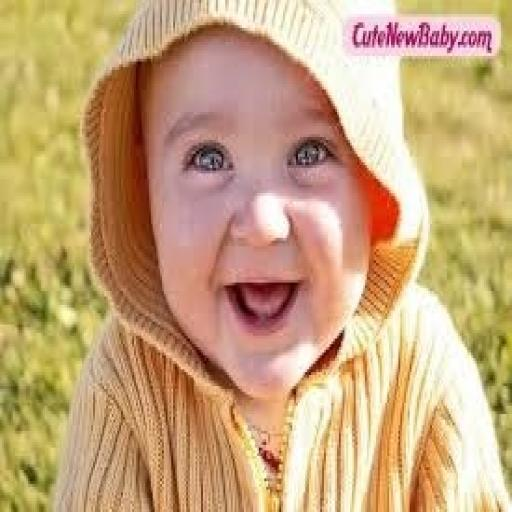laughing: (45, 0, 510, 509)
